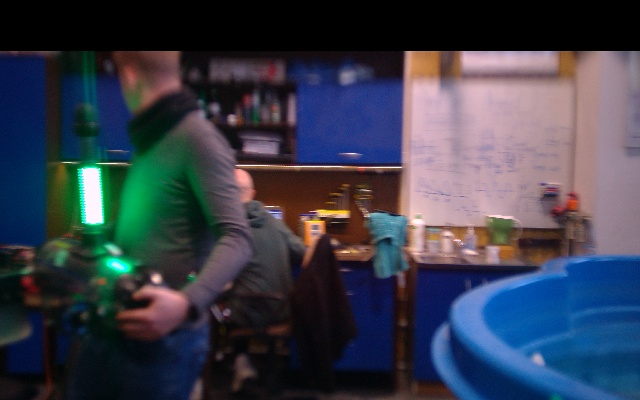green: (76, 164, 105, 229)
